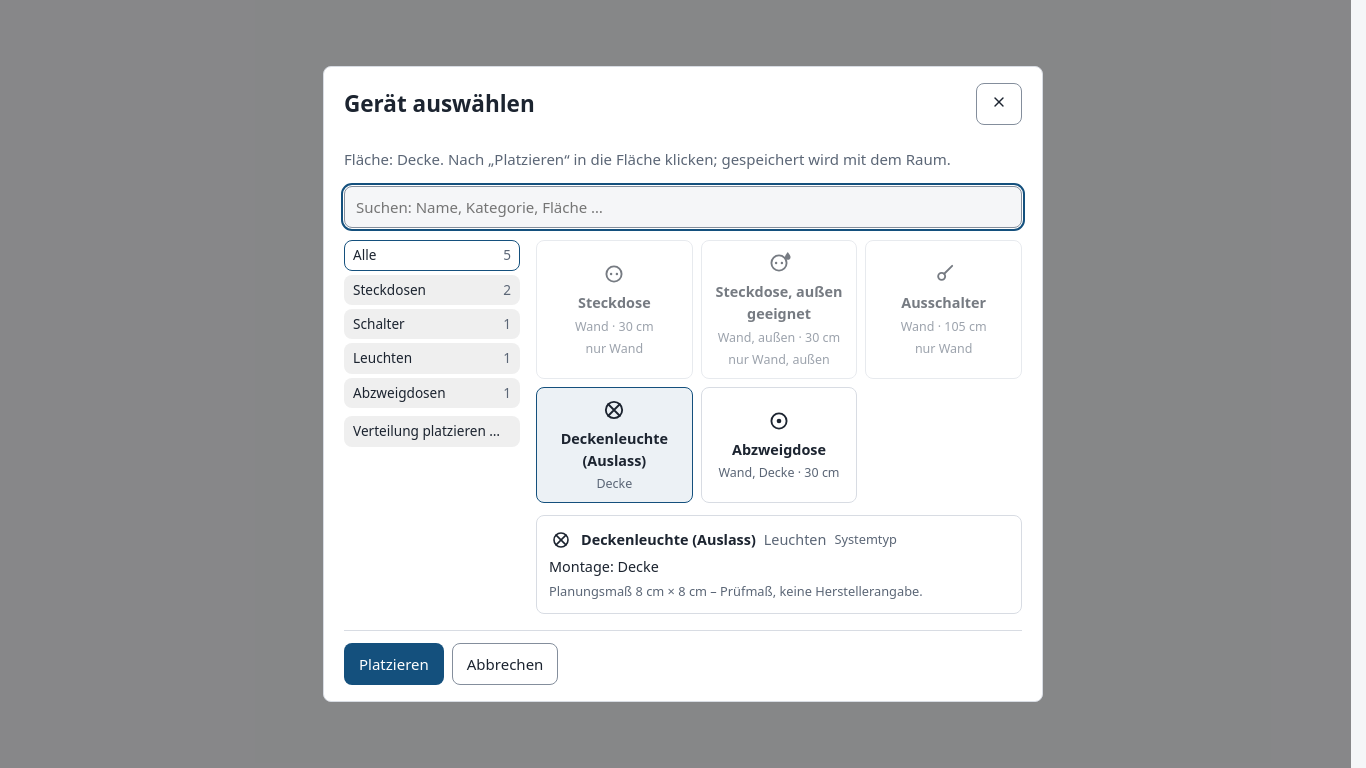
it: Gerätekatalog (K1) › gesperrter Verteilungseintrag nennt den Grund statt einer Aktion
Click the button "Verteilung platzieren …": (432, 432) top-left (344, 416), bottom-right (520, 447)
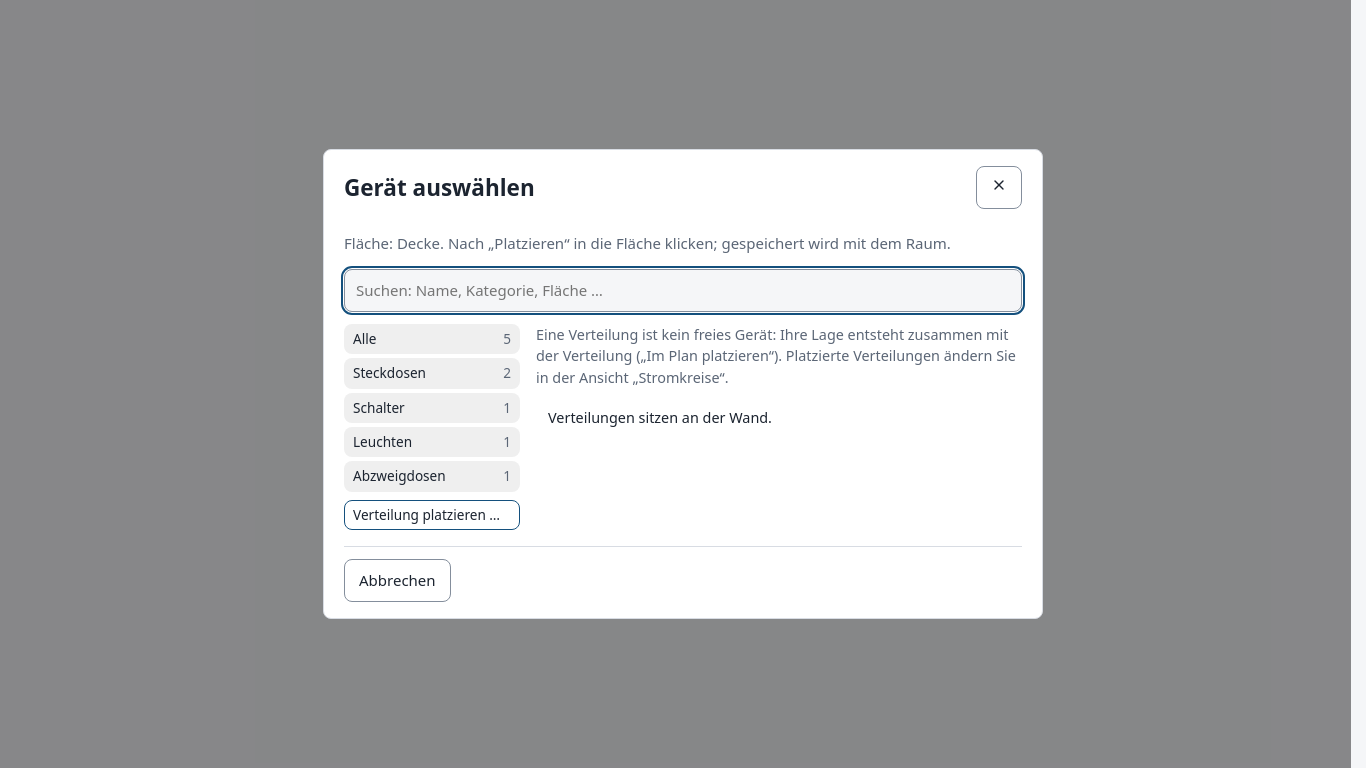
Expected: the message reads "Verteilungen sitzen an der Wand.", top-left (548, 408), bottom-right (772, 427)
